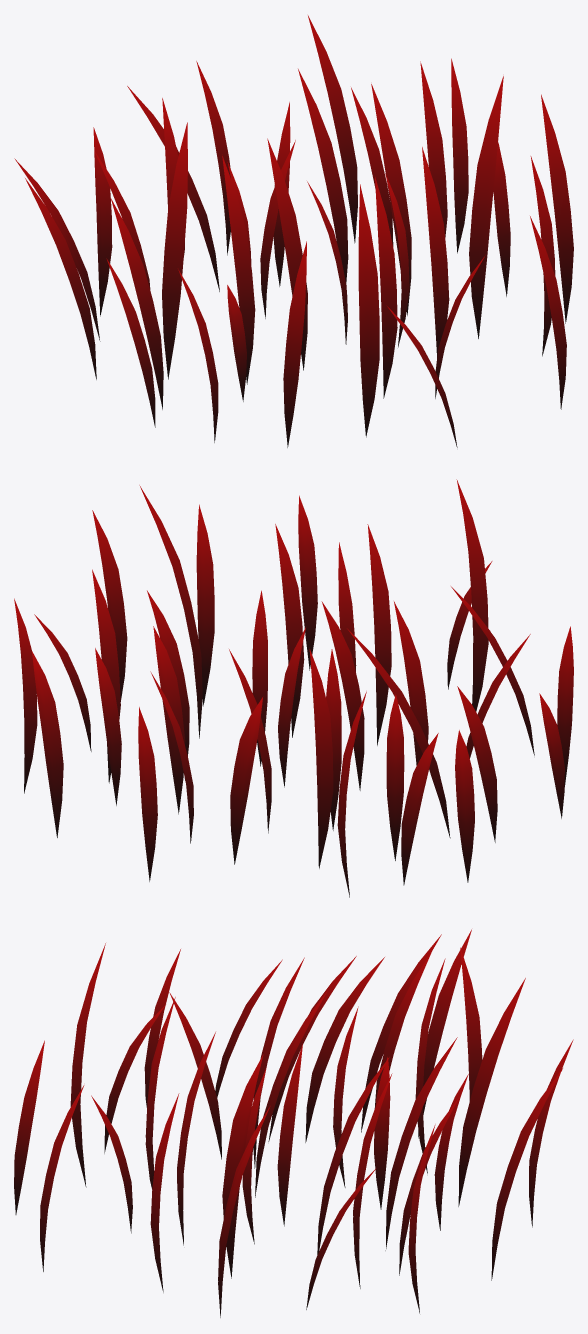
File: Grass_LOD.fbx
3 renders of one model, top to bottom at view 1: azimuth 30°, elevation 25°; view 2: azimuth 150°, elevation 25°; view 3: azimuth 270°, elevation 25°, orthographic. The views are drawn at different scales.
Parts seen in each view (by area): view 1: Grass_LOD0; view 2: Grass_LOD0; view 3: Grass_LOD0.
Part boxes in pixels (x1=…): Grass_LOD0: x1=14, y1=15, x2=573, y2=447; Grass_LOD0: x1=14, y1=479, x2=573, y2=897; Grass_LOD0: x1=14, y1=929, x2=573, y2=1317.
Size of what is drawn, in the model's own units: 254 by 142 by 277.
